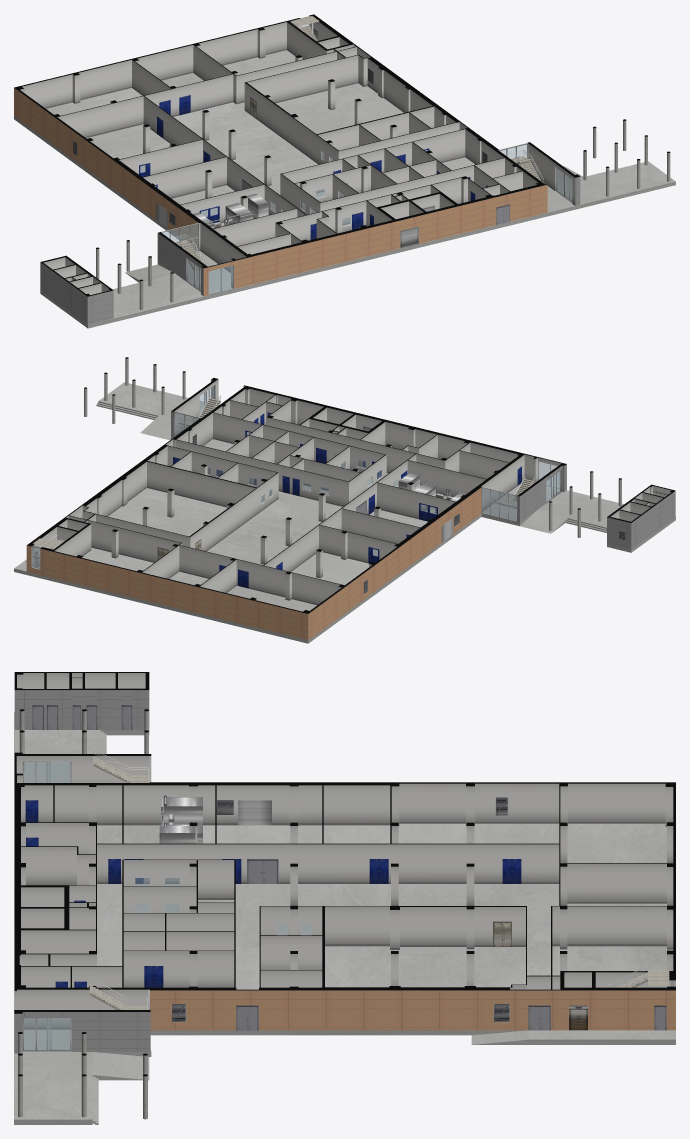
The picture shows the model from 3 angles, top to bottom: view 1: azimuth 30°, elevation 25°; view 2: azimuth 150°, elevation 25°; view 3: azimuth 270°, elevation 25°; orthographic projection. The views are drawn at different scales.
Visible parts, largest first — view 1: Cylinder021, Line024, Box720, Polyline1248, F&F-1-02, Rectangle1426; view 2: Cylinder021, Line024, Polyline1248, Box720, Rectangle1426, F&F-1-02; view 3: Cylinder021, Line024, Box720, Polyline1248, Polyline1243, F&F-1-02, F&F-1F, Rectangle1426, UTypeStair032, F&F-1-01.
Part boxes in pixels (bbox=[...]): Cylinder021: bbox=[14, 14, 670, 324]; Line024: bbox=[14, 50, 675, 328]; Box720: bbox=[139, 28, 509, 248]; Polyline1248: bbox=[161, 16, 572, 294]; F&F-1-02: bbox=[193, 203, 253, 228]; Rectangle1426: bbox=[270, 149, 350, 227]; Cylinder021: bbox=[26, 357, 675, 640]; Line024: bbox=[14, 382, 675, 643]; Polyline1248: bbox=[32, 385, 562, 568]; Box720: bbox=[34, 412, 521, 588]; Rectangle1426: bbox=[201, 453, 398, 504]; F&F-1-02: bbox=[413, 482, 466, 513]; Cylinder021: bbox=[14, 672, 675, 1119]; Line024: bbox=[14, 712, 675, 1124]; Box720: bbox=[25, 800, 666, 1030]; Polyline1248: bbox=[22, 756, 673, 1051]; Polyline1243: bbox=[32, 705, 132, 729]; F&F-1-02: bbox=[161, 795, 202, 843]; F&F-1F: bbox=[171, 797, 509, 1022]; Rectangle1426: bbox=[134, 876, 311, 935]; UTypeStair032: bbox=[595, 965, 669, 987]; F&F-1-01: bbox=[159, 826, 195, 843].
Bounding box in the file's own units: 76.62 × 5.1 × 52.58.
26 materials, 23 textured.
